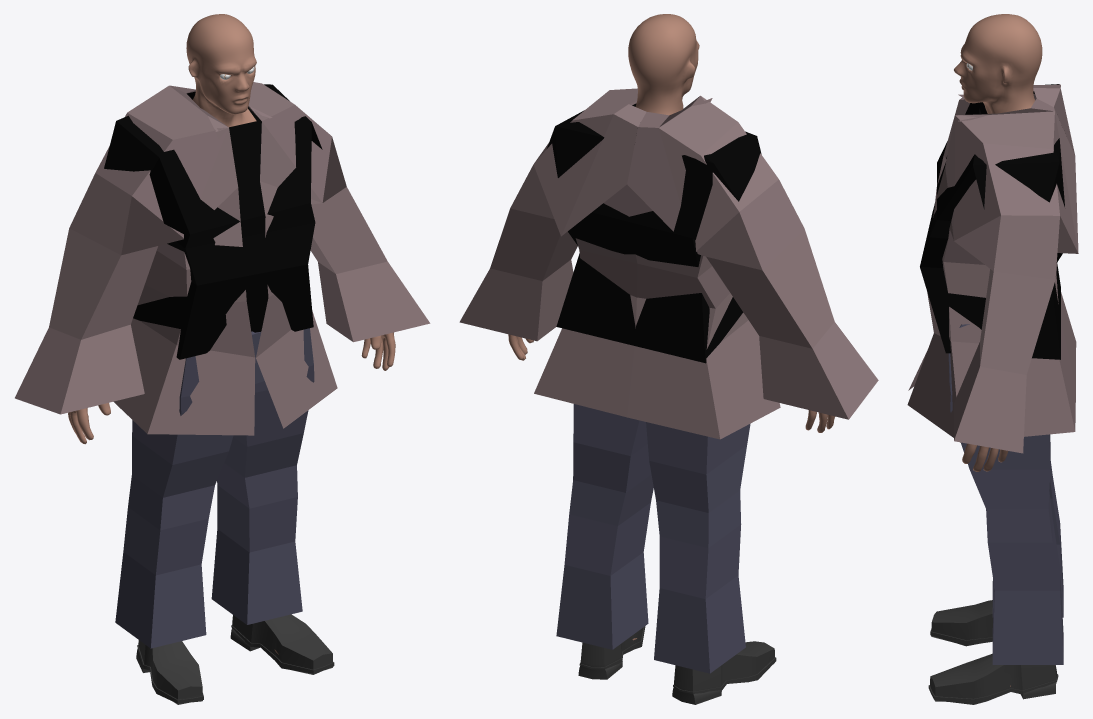
File: fire dude.fbx
The picture shows the model from 3 angles, left to right: view 1: azimuth 30°, elevation 25°; view 2: azimuth 150°, elevation 25°; view 3: azimuth 270°, elevation 25°; orthographic projection.
Visible parts, largest first — view 1: polySurface13; view 2: polySurface13; view 3: polySurface13.
Boxes of the visible parts, x1,y1,x2,y2 form: polySurface13: [15, 14, 430, 704]; polySurface13: [459, 14, 878, 704]; polySurface13: [907, 14, 1078, 704].
Size of the model in its own units: 115 by 184 by 43.86.
